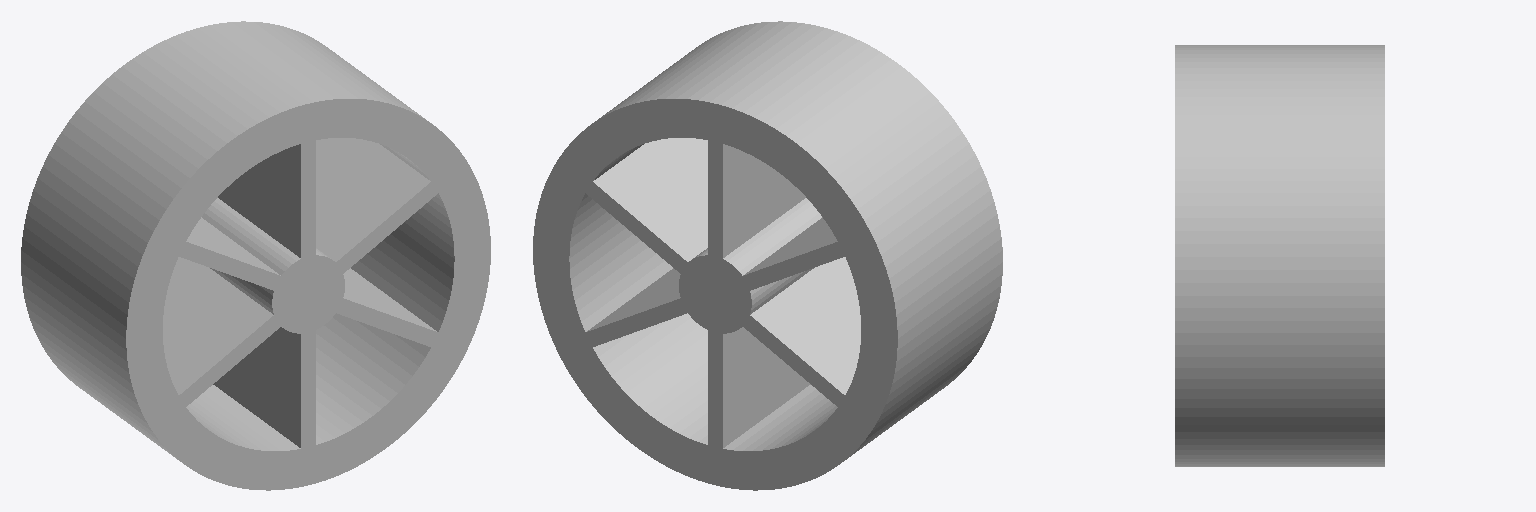
The model's file is wheel.obj.
3 views of the same model, side by side, from view 1: azimuth 30°, elevation 25°; view 2: azimuth 150°, elevation 25°; view 3: azimuth 270°, elevation 25° (orthographic).
Visible parts, largest first — view 1: wheel; view 2: wheel; view 3: wheel.
Boxes of the visible parts, box(x1,y1,x2,y2) form: wheel: box(21, 21, 490, 490); wheel: box(533, 21, 1002, 490); wheel: box(1175, 45, 1384, 466).
Size of the model in its own units: 5 by 5 by 2.5.